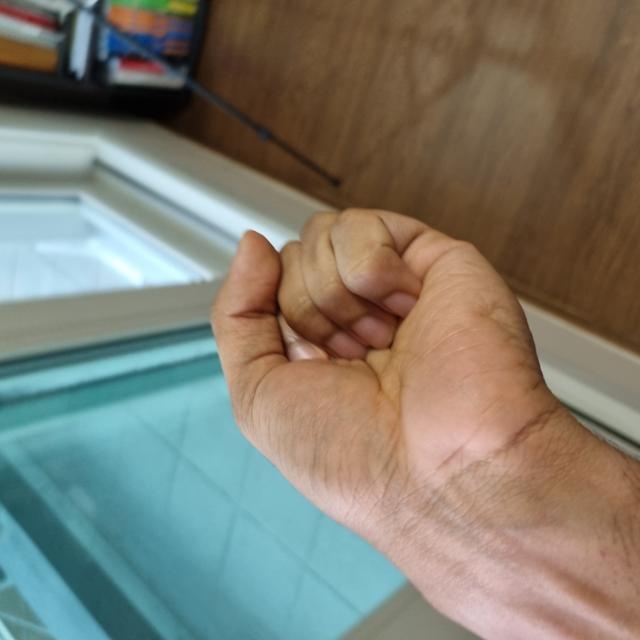Rock: (2, 206, 424, 599)
